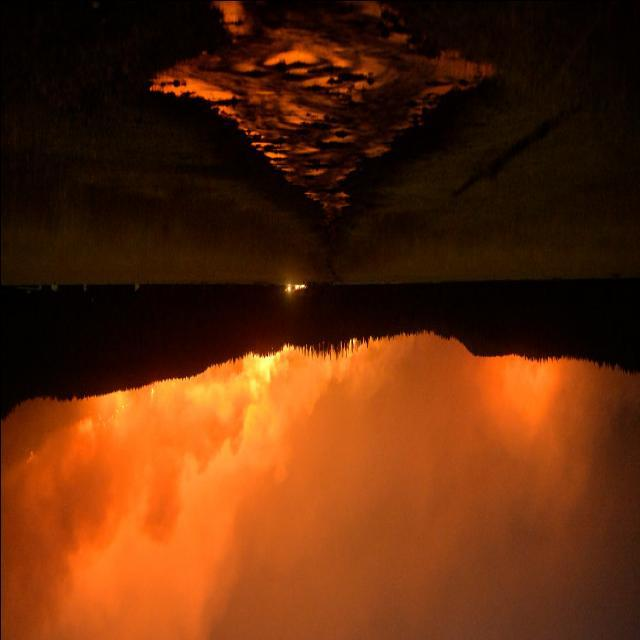Fire: (82, 350, 294, 467)
